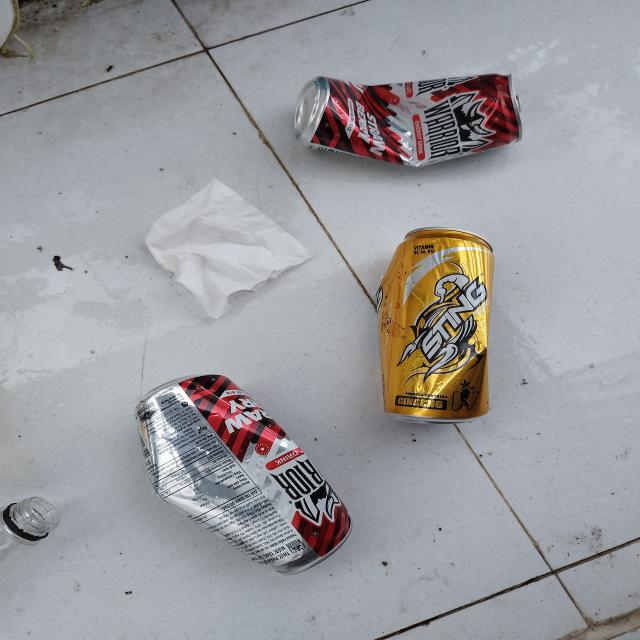can: (134, 372, 353, 574), (376, 226, 495, 425), (294, 72, 522, 168)
napkin: (143, 178, 312, 322)
